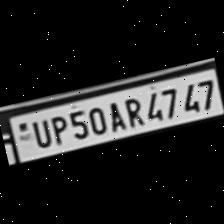0: (82, 101, 110, 136)
4: (138, 86, 166, 122), (174, 78, 201, 114)
5: (62, 104, 90, 140)
7: (156, 84, 182, 119), (193, 75, 219, 110)
A: (102, 98, 127, 132)
P: (44, 110, 70, 145)
R: (118, 92, 144, 128)
U: (26, 114, 53, 150)
